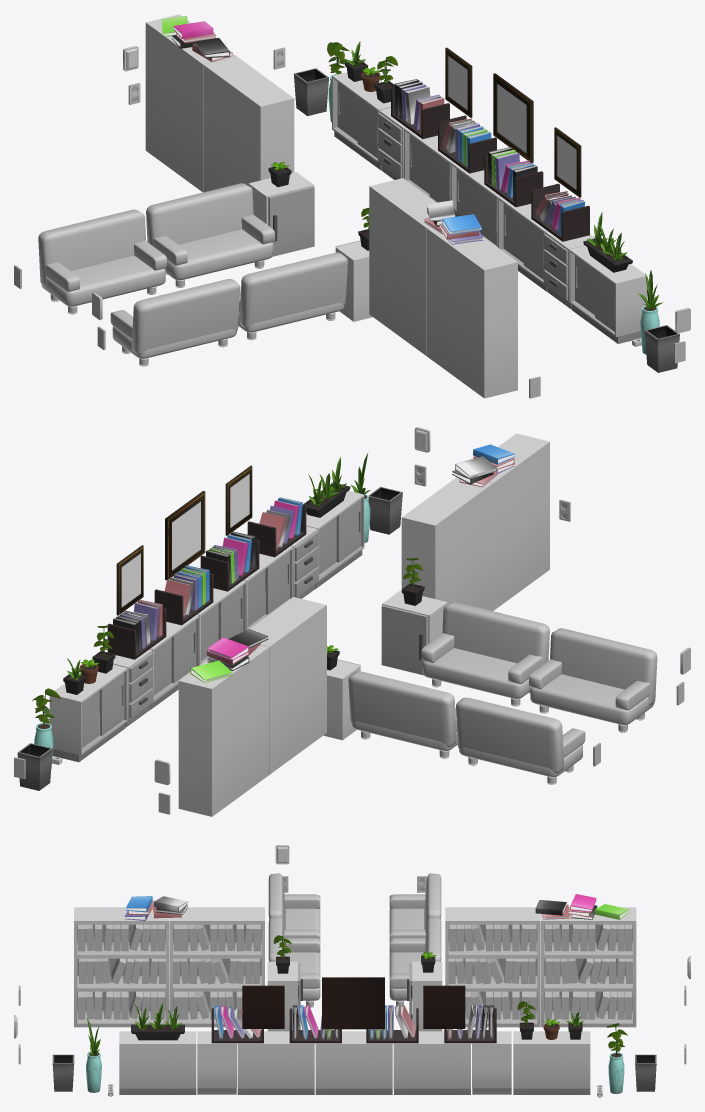
The model's file is Room13Set0.FBX.
3 views of the same model, one above another, from view 1: azimuth 30°, elevation 25°; view 2: azimuth 150°, elevation 25°; view 3: azimuth 270°, elevation 25° (orthographic). The views are drawn at different scales.
Visible parts, largest first — view 1: bookshelf040, bookshelf042, ChamferBox022, ChamferBox020, bookshelf039, bookshelf041, ChamferBox021, ChamferBox019, chestbox101, Object185, picture007, chestbox103 (+26 smaller); view 2: bookshelf041, bookshelf039, ChamferBox021, bookshelf042, ChamferBox019, bookshelf040, ChamferBox022, ChamferBox020, chestbox098, Object184, picture007, chestbox104 (+28 smaller); view 3: Books017, Books018, Books016, Books019, bookshelf040, bookshelf042, bookshelf039, bookshelf041, chestbox098, chestbox101, chestbox096, chestbox099 (+22 smaller).
Part boxes in pixels (<box>): bookshelf040: <box>427,227,517,398</box>; bookshelf042: <box>203,56,294,192</box>; ChamferBox022: <box>38,209,166,314</box>; ChamferBox020: <box>146,183,274,287</box>; bookshelf039: <box>369,178,436,356</box>; bookshelf041: <box>145,14,236,192</box>; ChamferBox021: <box>110,279,240,366</box>; ChamferBox019: <box>238,252,347,340</box>; chestbox101: <box>569,245,647,343</box>; Object185: <box>268,186,314,256</box>; picture007: <box>493,73,533,162</box>; chestbox103: <box>335,241,372,321</box>; bookshelf041: <box>178,645,269,816</box>; bookshelf039: <box>401,477,492,610</box>; ChamferBox021: <box>529,628,657,732</box>; bookshelf042: <box>250,597,326,774</box>; ChamferBox019: <box>421,602,549,706</box>; bookshelf040: <box>488,433,549,610</box>; ChamferBox022: <box>456,697,585,784</box>; ChamferBox020: <box>348,671,457,758</box>; chestbox098: <box>49,662,127,762</box>; Object184: <box>381,605,427,675</box>; picture007: <box>165,491,205,580</box>; chestbox104: <box>323,660,360,740</box>; Books017: <box>78,924,165,1019</box>; Books018: <box>545,924,632,1019</box>; Books016: <box>173,924,260,1019</box>; Books019: <box>448,924,536,1019</box>; bookshelf040: <box>74,907,169,1027</box>; bookshelf042: <box>445,907,540,1027</box>; bookshelf039: <box>169,907,264,1027</box>; bookshelf041: <box>541,907,636,1027</box>; chestbox098: <box>513,1031,590,1094</box>; chestbox101: <box>119,1031,196,1094</box>; chestbox096: <box>393,1031,470,1094</box>; chestbox099: <box>237,1031,314,1094</box>.
Bounding box in the file's own units: 78.5 × 24.28 × 120.
